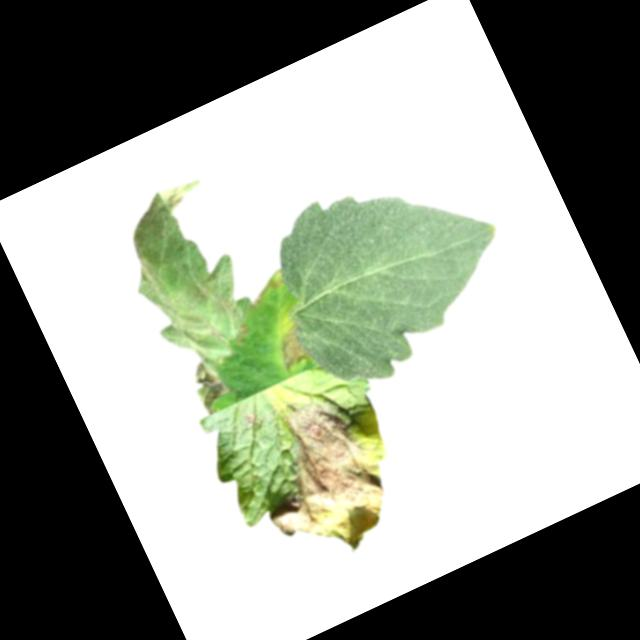Late_blight: (229, 373, 423, 579), (100, 173, 275, 384), (182, 357, 234, 417), (269, 317, 316, 371), (242, 406, 264, 430)
